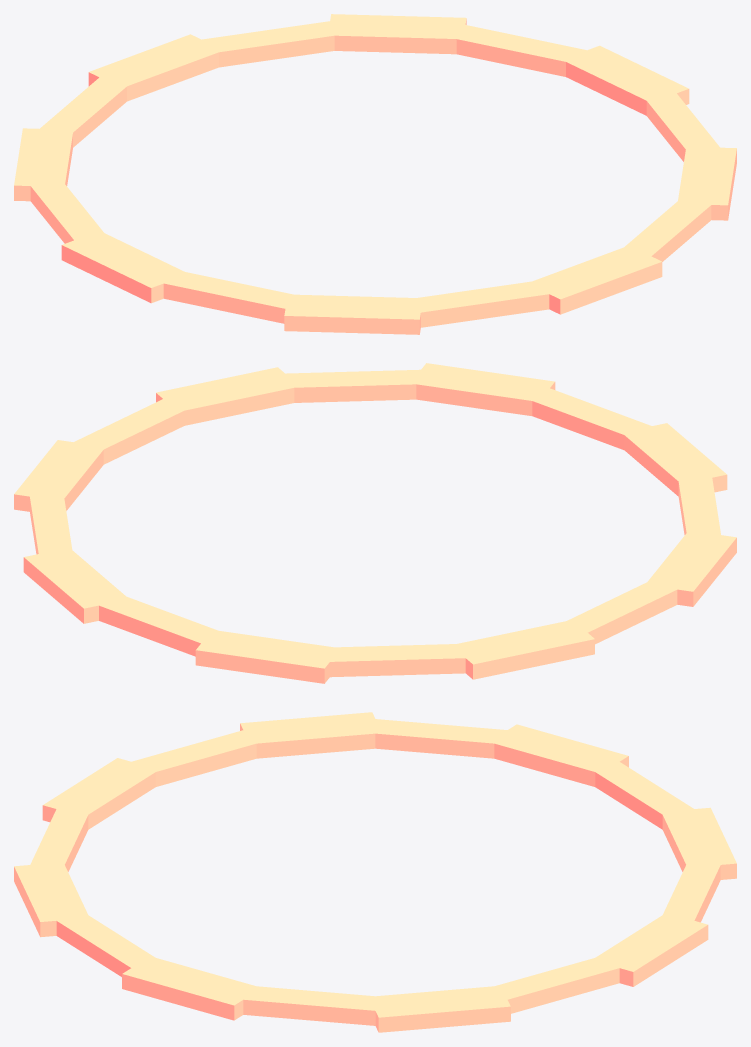
File: ShieldGear_03.fbx
3 renders of one model, top to bottom at view 1: azimuth 30°, elevation 25°; view 2: azimuth 150°, elevation 25°; view 3: azimuth 270°, elevation 25°, orthographic.
Visible parts, largest first — view 1: ShieldEngine_03_LOD0; view 2: ShieldEngine_03_LOD0; view 3: ShieldEngine_03_LOD0.
Part boxes in pixels (<box>): ShieldEngine_03_LOD0: <box>14,14,736,334</box>; ShieldEngine_03_LOD0: <box>14,363,736,683</box>; ShieldEngine_03_LOD0: <box>14,712,736,1032</box>.
Size of what is drawn, in the model's own units: 12899 by 298 by 12899.
